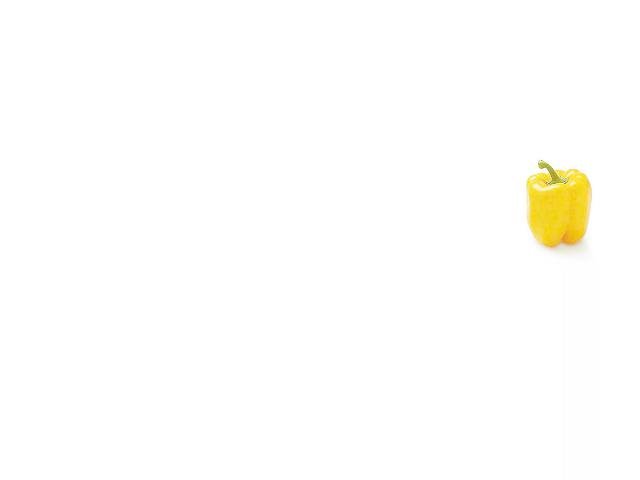bell_pepper: (517, 156, 592, 248)
